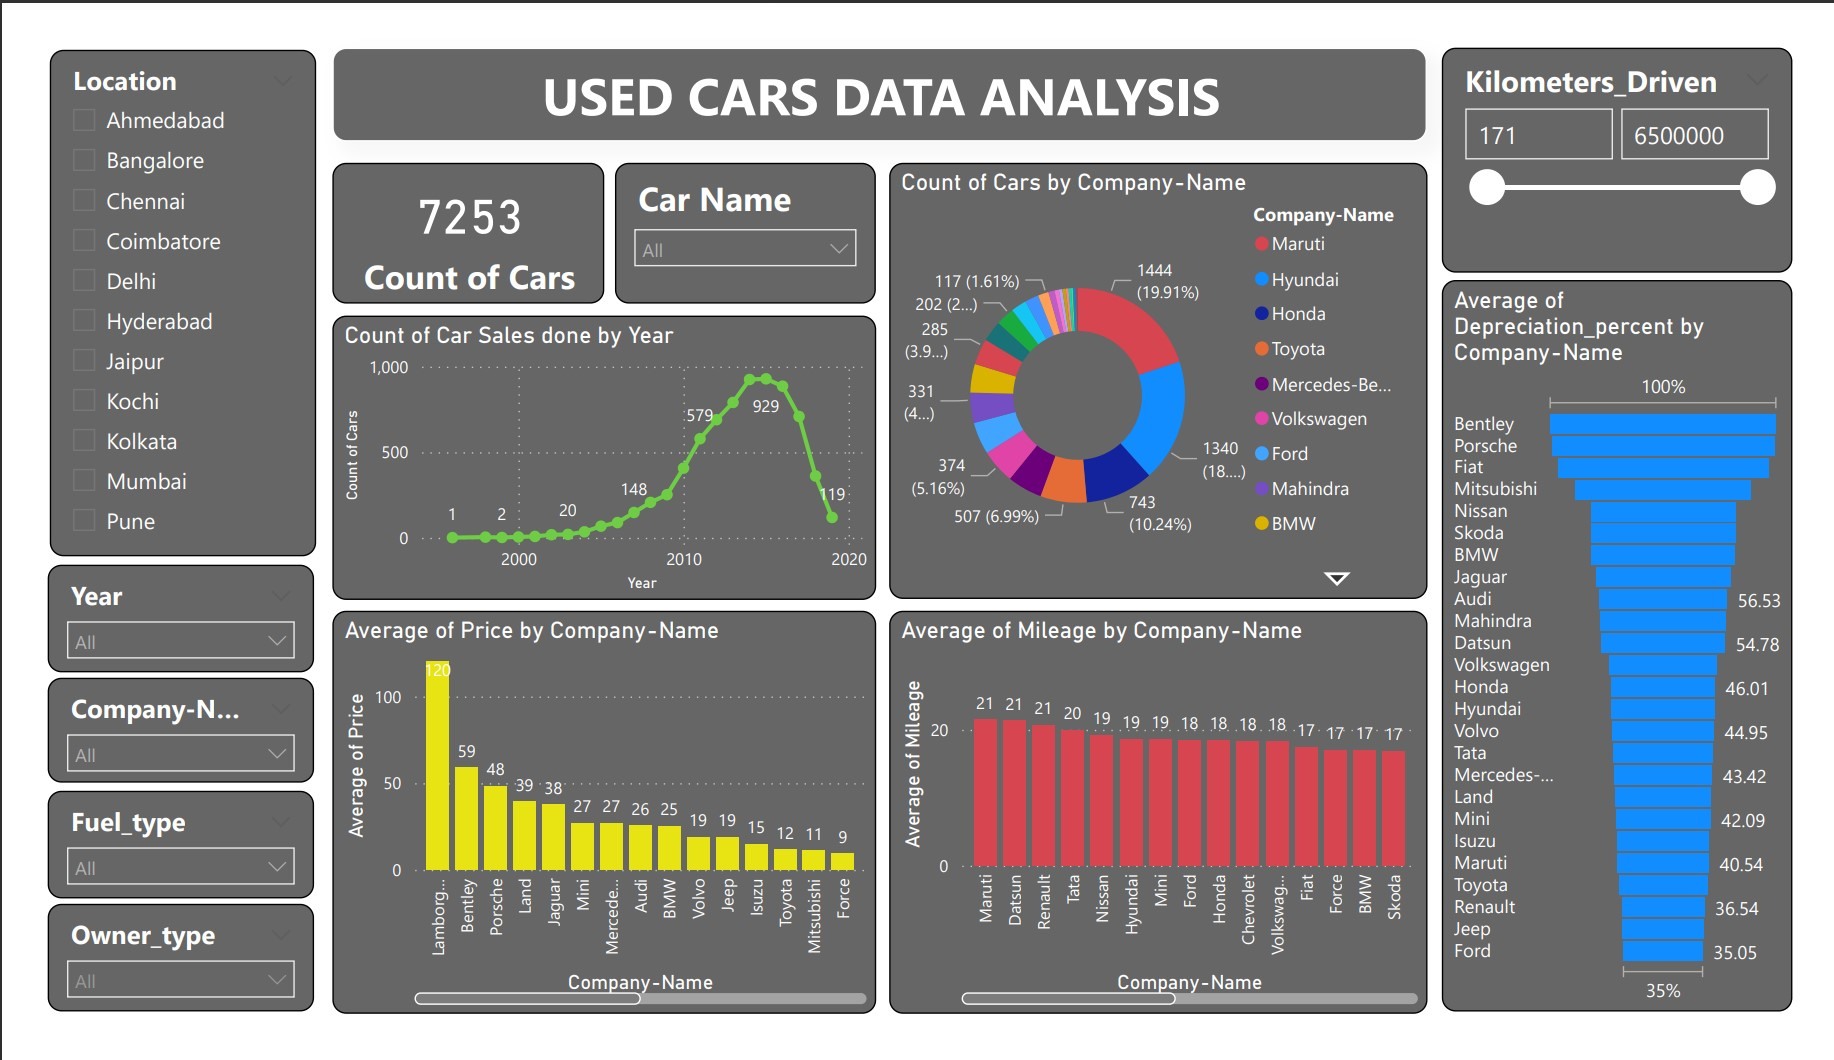

This screenshot's page, from the dashboard's own definition file:
{"tool":"powerbi","page":{"name":"Page 1","canvas":[1280,720],"ordinal":0},"visuals":[{"type":"slicer","fields":{"Values":["used_cars.Location"]},"box":[10,10,193.1,367.3],"z":0},{"type":"slicer","fields":{"Values":["used_cars.Year"]},"box":[9.5,383,193.1,77.6],"z":1000},{"type":"slicer","fields":{"Values":["used_cars.Company-Name"]},"box":[9.5,465,193.1,75.7],"z":2000},{"type":"textbox","box":[215.9,9.5,793.4,68.2],"z":3000},{"type":"columnChart","fields":{"Category":["used_cars.Company-Name"],"Y":["Avg(used_cars.Mileage)"]},"box":[619.2,416.6,390.1,291.6],"z":4000},{"type":"columnChart","fields":{"Category":["used_cars.Company-Name"],"Y":["Avg(used_cars.Price)"]},"box":[215.9,416.6,393.8,291.6],"z":5000},{"type":"card","fields":{"Values":["CountNonNull(used_cars.s.no.)"]},"box":[215.9,92.8,196.9,102.2],"z":6000},{"type":"funnel","fields":{"Category":["used_cars.Company-Name"],"Y":["Avg(used_cars.Depreciation_percent)"]},"box":[1018.7,178,253.7,530.2],"z":7000},{"type":"slicer","fields":{"Values":["used_cars.Owner_type"]},"box":[9.5,630,193.1,77.6],"z":8000},{"type":"donutChart","fields":{"Category":["used_cars.Company-Name"],"Y":["CountNonNull(used_cars.Cars)"]},"box":[619.2,92.8,390.1,316.2],"z":9000},{"type":"slicer","fields":{"Values":["used_cars.Fuel_type"]},"box":[9.5,548,193.1,77.6],"z":10000},{"type":"slicer","fields":{"Values":["used_cars.Kilometers_Driven"]},"box":[1018.7,9.5,253.7,162.8],"z":11000},{"type":"slicer","fields":{"Values":["used_cars.name"]},"box":[420.4,92.8,189.3,102.2],"z":12000},{"type":"lineChart","title":"Count of Car Sales done by Year","fields":{"Category":["used_cars.Year"],"Y":["CountNonNull(used_cars.Cars)"]},"box":[215.9,202.6,393.8,206.4],"z":13000}]}

Visuals, with their boxes in screenshot pixels (x1, y1, x2, y2), scaled from the page's 1280x720 canvas onto the 1834x1060 screenshot:
slicer - used_cars.Location: [14,15,291,555]
slicer - used_cars.Year: [14,564,290,678]
slicer - used_cars.Company-Name: [14,685,290,796]
textbox: [309,14,1446,114]
columnChart - used_cars.Company-Name x Avg(used_cars.Mileage): [887,613,1446,1043]
columnChart - used_cars.Company-Name x Avg(used_cars.Price): [309,613,874,1043]
card - CountNonNull(used_cars.s.no.): [309,137,591,287]
funnel - used_cars.Company-Name x Avg(used_cars.Depreciation_percent): [1460,262,1823,1043]
slicer - used_cars.Owner_type: [14,928,290,1042]
donutChart - used_cars.Company-Name x CountNonNull(used_cars.Cars): [887,137,1446,602]
slicer - used_cars.Fuel_type: [14,807,290,921]
slicer - used_cars.Kilometers_Driven: [1460,14,1823,254]
slicer - used_cars.name: [602,137,874,287]
"Count of Car Sales done by Year" lineChart: [309,298,874,602]
